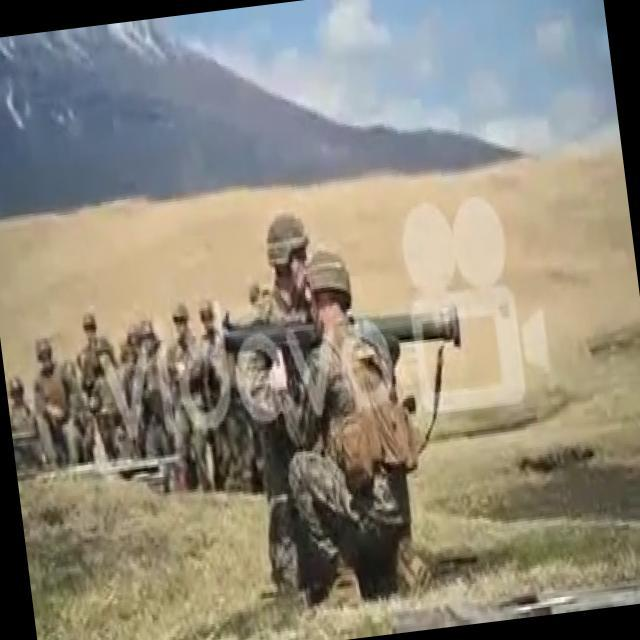rocket: (220, 288, 462, 374)
